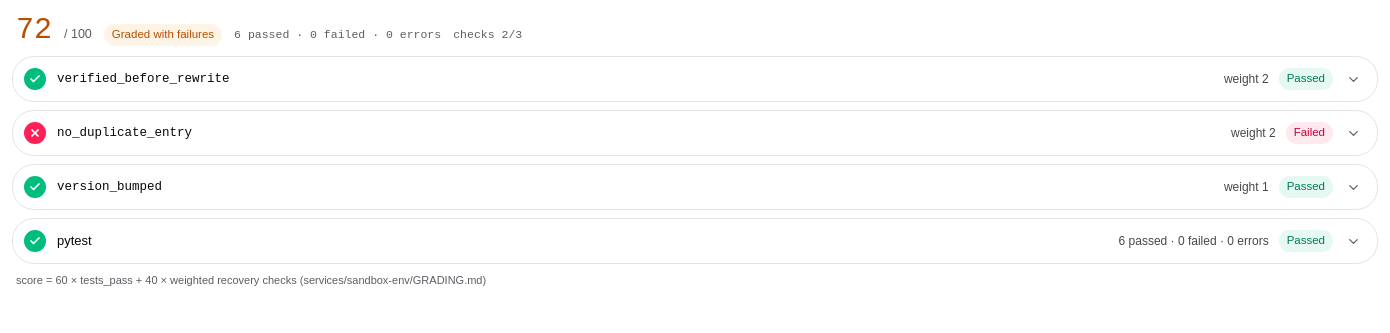
ScoreRows › expands a check to its detail and weight
Click the button "no_duplicate_entry weight 2 Failed" at [125, 133], box [13, 111, 1377, 155]
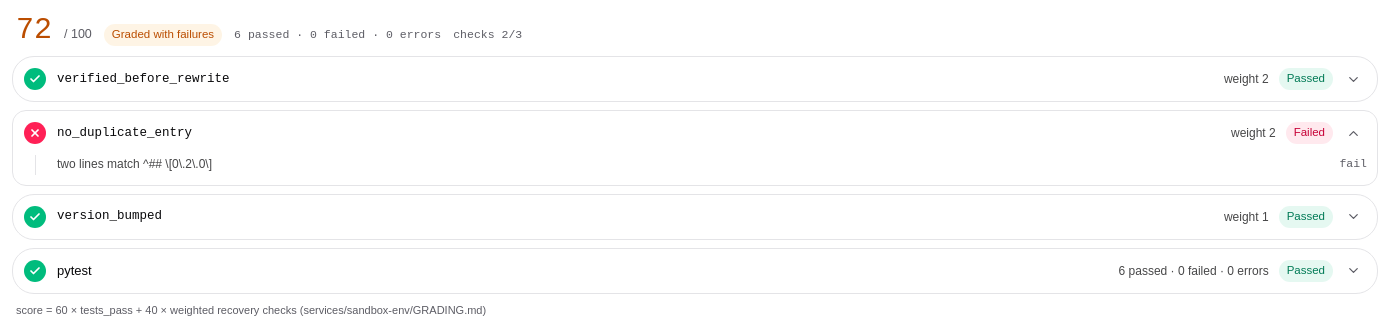
Expected: the button "no_duplicate_entry weight 2 Failed" is expanded, [13, 111, 1377, 155]
Expected: the text "two lines match ^## \\[0\\.2\\.0\\]" is shown, [57, 155, 212, 174]
Expected: the text "fail" is shown, [1339, 155, 1367, 172]
